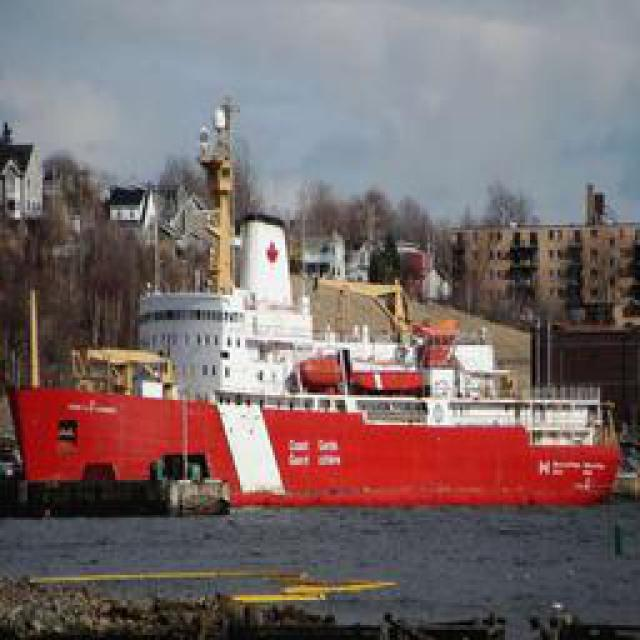Ship: (16, 312, 629, 515)
